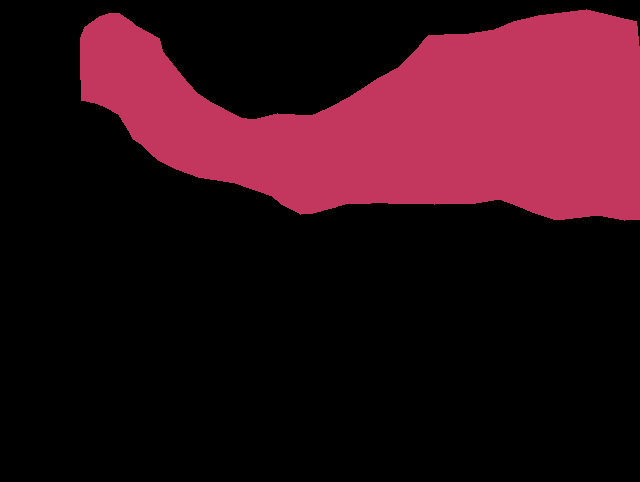Airplane: (80, 9, 640, 221)
